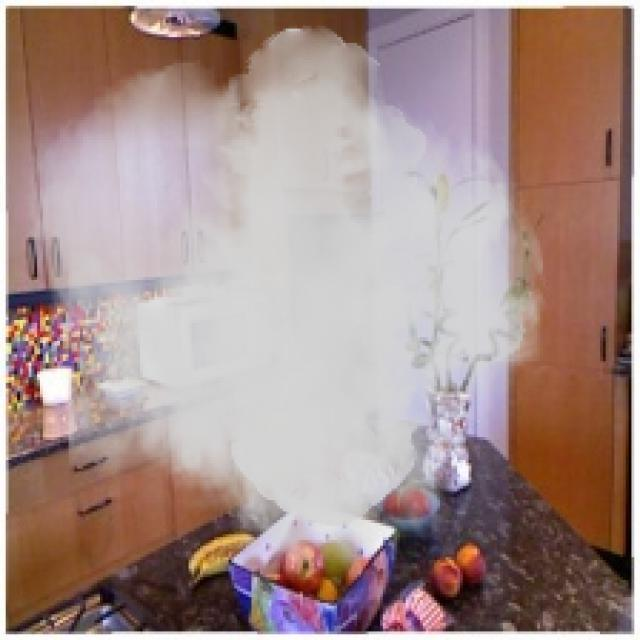Smoke: (22, 26, 552, 583)
